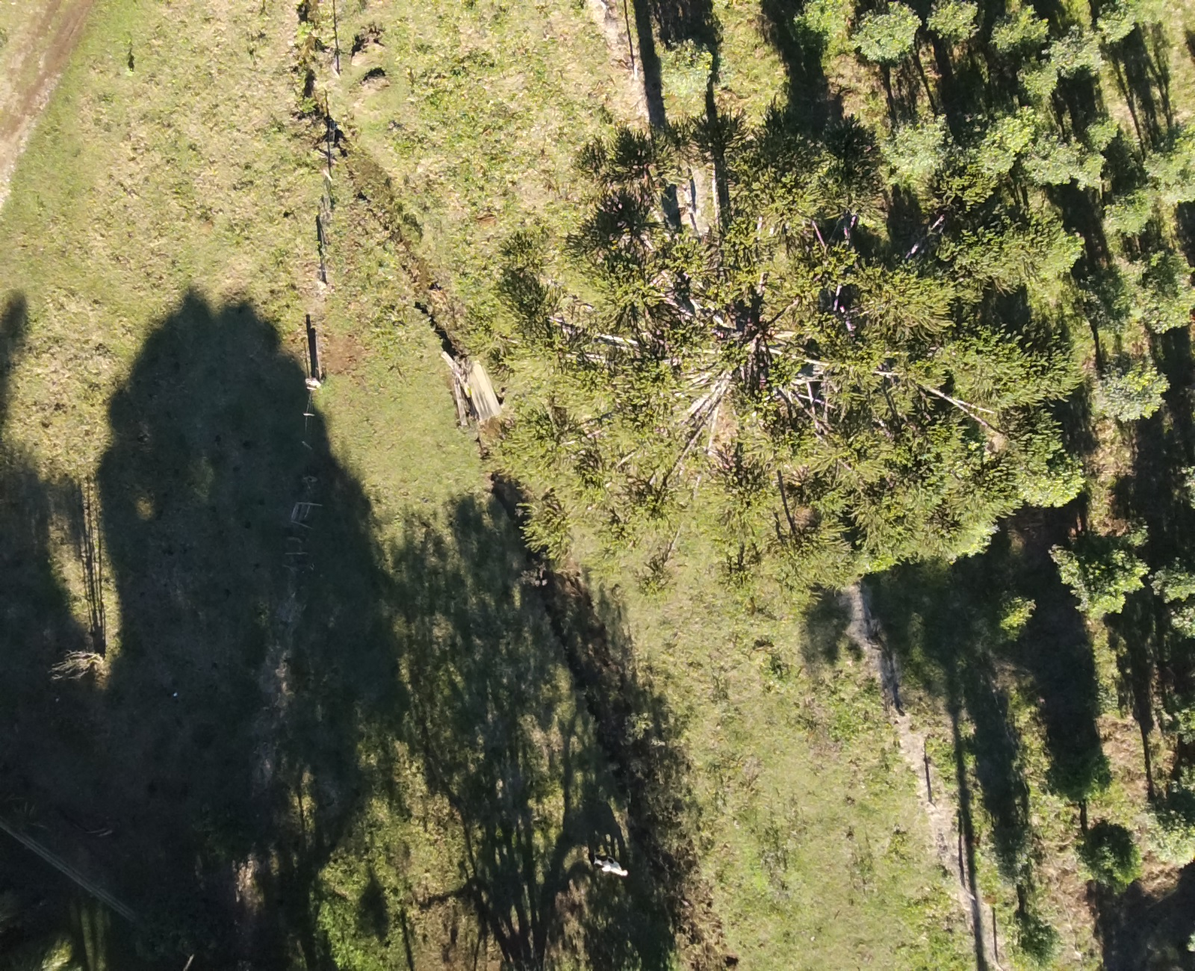erva: (869, 105, 936, 173), (1090, 825, 1149, 890), (855, 6, 917, 66), (652, 34, 717, 91), (991, 580, 1049, 640), (783, 3, 845, 55), (1014, 919, 1071, 970), (1142, 138, 1194, 193), (990, 4, 1038, 63), (1019, 138, 1087, 179), (1150, 807, 1194, 870), (924, 0, 981, 46), (1011, 62, 1070, 105), (1055, 21, 1099, 76), (975, 100, 1028, 144), (1086, 580, 1135, 624), (1154, 556, 1194, 607), (1107, 196, 1152, 239), (1097, 4, 1134, 53), (1099, 533, 1135, 583), (969, 142, 1014, 173), (1073, 153, 1109, 188), (1091, 105, 1126, 140), (1163, 704, 1194, 737), (1167, 609, 1194, 642)
